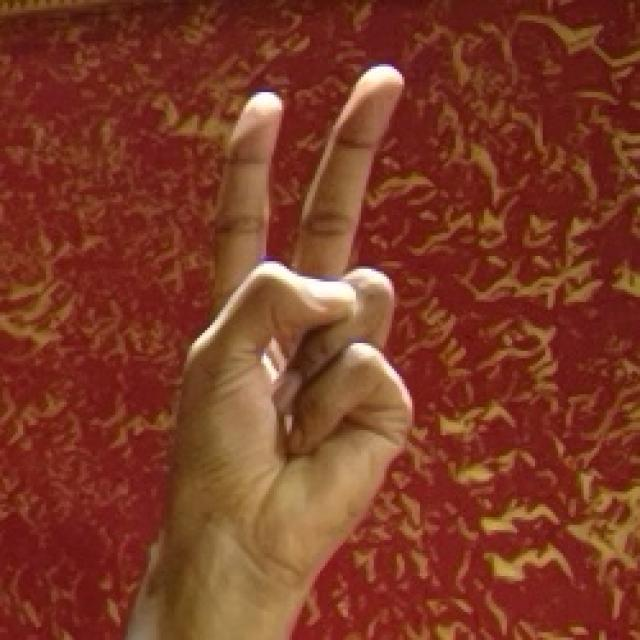Numeric-2: (200, 62, 416, 565)
